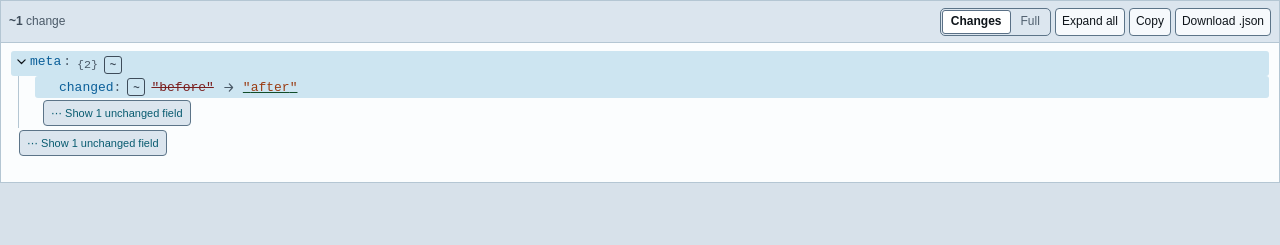
Test case: Inspector JSON controls › reveals unchanged siblings locally inside changed objects and at the root
The width and height of the screenshot is (1280, 245).
Click the button "⋯ Show 1 unchanged field" below "\"before\"": (117, 113) [43,100,190,126]
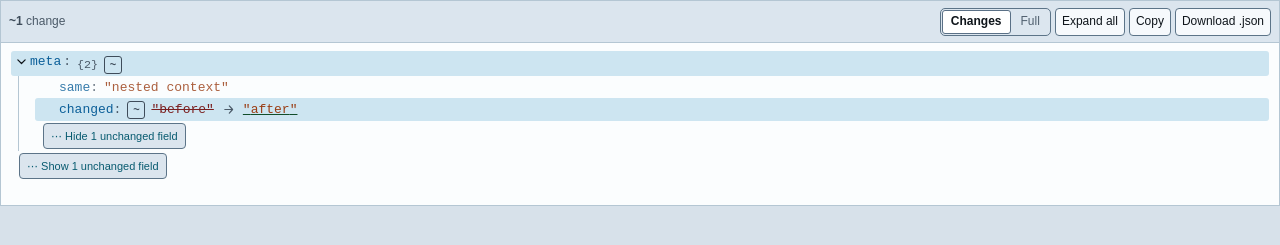
expect the element showing "same : \"nested context\"" is shown: met, box [59,80,229,95]
Click the button "⋯ Show 1 unchanged field": (93, 166) [19,153,166,179]
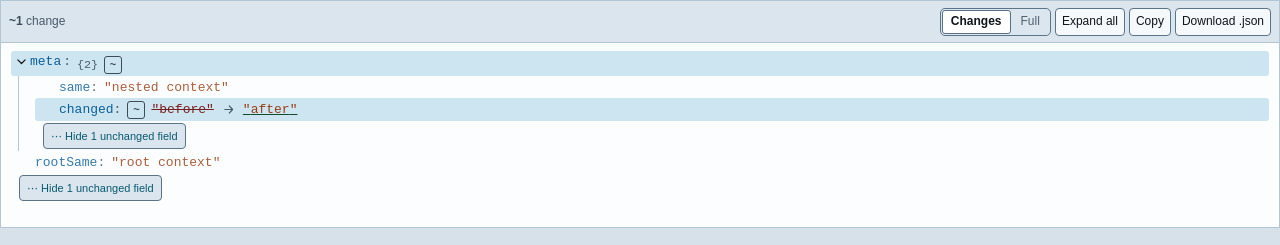
expect the element showing "rootSame : \"root context\"" is shown: met, box [35,155,220,170]
